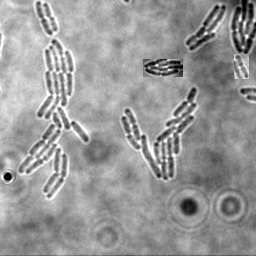Dividing: (34, 1, 52, 37), (41, 3, 57, 33), (234, 54, 249, 79)
Microcolony: (18, 40, 89, 199), (120, 87, 197, 181), (184, 5, 226, 52), (230, 1, 255, 56), (143, 59, 183, 77)
